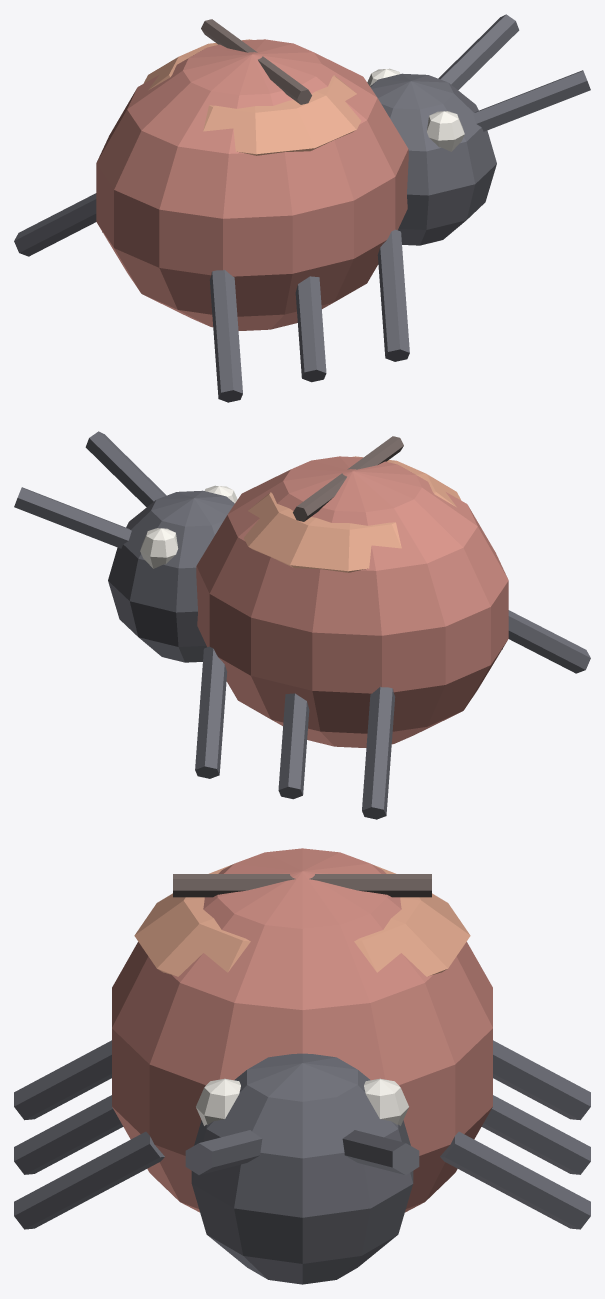
Rendered from escarabajo.glb.
3 views of the same model, one above another, from view 1: azimuth 30°, elevation 25°; view 2: azimuth 150°, elevation 25°; view 3: azimuth 270°, elevation 25° (orthographic). The views are drawn at different scales.
Visible parts, largest first — view 1: escarabajo; view 2: escarabajo; view 3: escarabajo.
Boxes of the visible parts, <box> form: escarabajo: <box>14,14,590,402</box>; escarabajo: <box>14,431,590,819</box>; escarabajo: <box>14,848,590,1284</box>.
Size of the model in its own units: 1.05 by 0.6 by 0.892.
